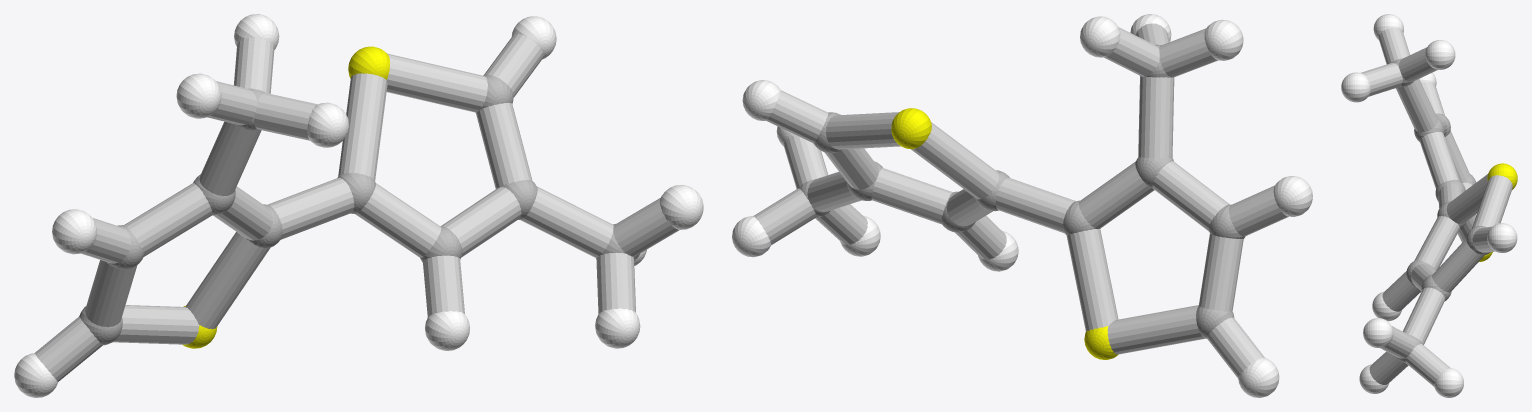
The model's file is Methylthiophene_Phi_5_Theta_300_Methylthiophene.glb.
3 views of the same model, side by side, from view 1: azimuth 30°, elevation 25°; view 2: azimuth 150°, elevation 25°; view 3: azimuth 270°, elevation 25° (orthographic). The views are drawn at different scales.
Parts seen in each view (by area): view 1: grp7965, grp3621, grp1, grp7241; view 2: grp7965, grp3621, grp1, grp7241; view 3: grp7965, grp3621, grp1, grp7241.
Part boxes in pixels (bbox=[...]): grp7965: bbox=[34, 33, 679, 381]; grp3621: bbox=[14, 14, 703, 397]; grp1: bbox=[79, 74, 634, 345]; grp7241: bbox=[182, 46, 389, 348]; grp7965: bbox=[753, 23, 1288, 378]; grp3621: bbox=[732, 14, 1312, 397]; grp1: bbox=[799, 44, 1245, 338]; grp7241: bbox=[891, 108, 1118, 359]; grp7965: bbox=[1361, 27, 1512, 386]; grp3621: bbox=[1341, 14, 1517, 397]; grp1: bbox=[1392, 58, 1490, 363]; grp7241: bbox=[1479, 163, 1517, 261].
Bounding box in the file's own units: 9.4 × 5.43 × 3.49.
